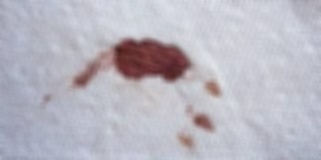blood: (109, 40, 190, 81), (191, 111, 214, 131)
